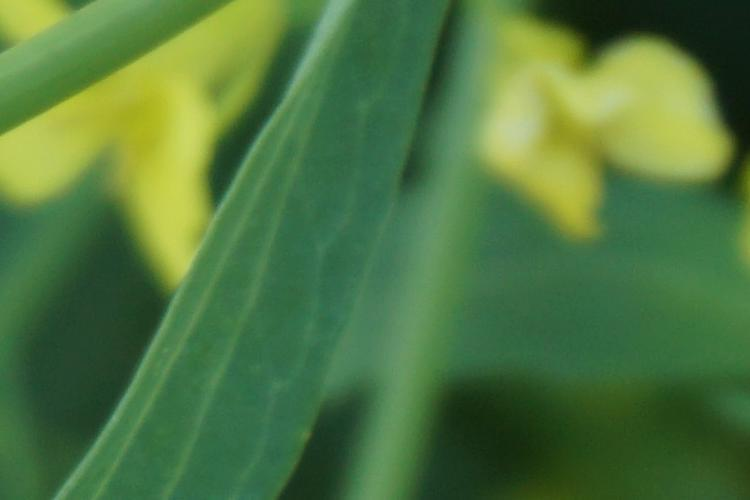yellow: (489, 21, 735, 244)
